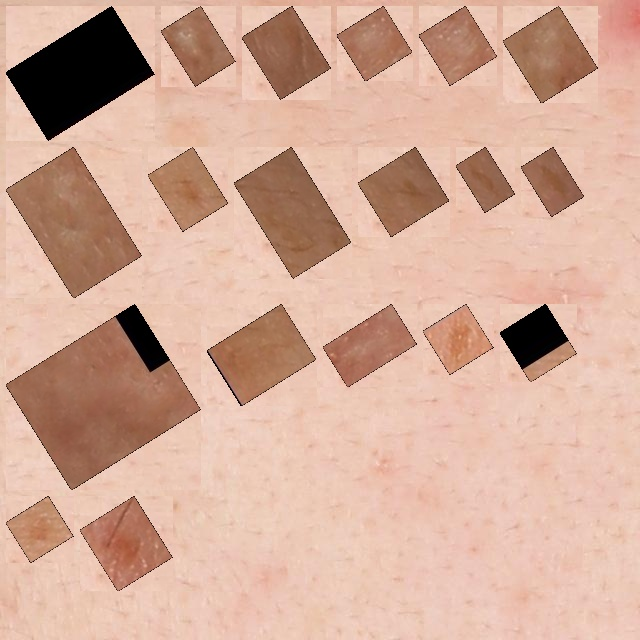hypertrophic_scar: (17, 315, 190, 479), (17, 158, 131, 287), (514, 17, 587, 92), (253, 17, 320, 88), (334, 315, 406, 376), (430, 17, 486, 74), (172, 17, 224, 75), (348, 17, 401, 70)
melasma: (17, 17, 143, 129), (245, 158, 340, 267), (218, 315, 305, 395), (91, 507, 161, 580), (369, 158, 438, 225), (159, 158, 217, 220), (511, 315, 566, 371), (434, 315, 482, 363), (17, 507, 62, 551), (532, 158, 573, 205), (467, 158, 504, 201)
